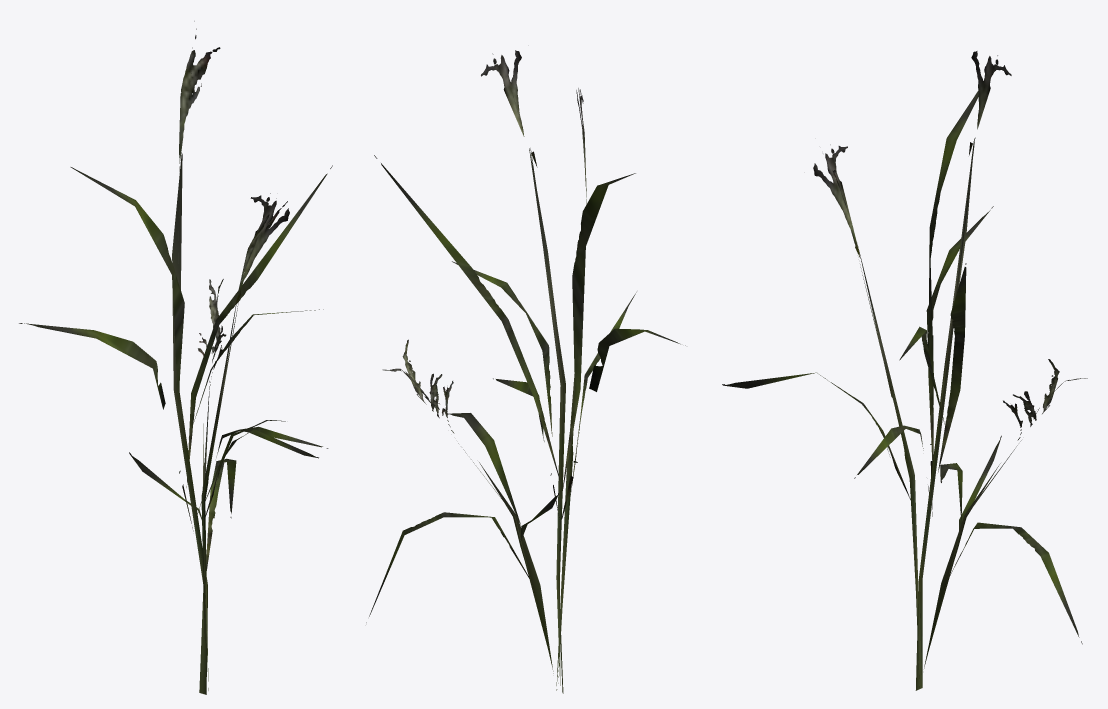
The picture shows the model from 3 angles, left to right: view 1: azimuth 30°, elevation 25°; view 2: azimuth 150°, elevation 25°; view 3: azimuth 270°, elevation 25°; orthographic projection. The views are drawn at different scales.
Parts seen in each view (by area): view 1: grass_medium_01_tall_a_LOD0; view 2: grass_medium_01_tall_a_LOD0; view 3: grass_medium_01_tall_a_LOD0.
Boxes of the visible parts, x1=… form: grass_medium_01_tall_a_LOD0: x1=19, y1=21, x2=332, y2=694; grass_medium_01_tall_a_LOD0: x1=366, y1=50, x2=685, y2=693; grass_medium_01_tall_a_LOD0: x1=722, y1=51, x2=1087, y2=690.
Size of the model in its own units: 0.4945 by 0.996 by 0.4912.
Materials: 1 (1 with a texture image).
